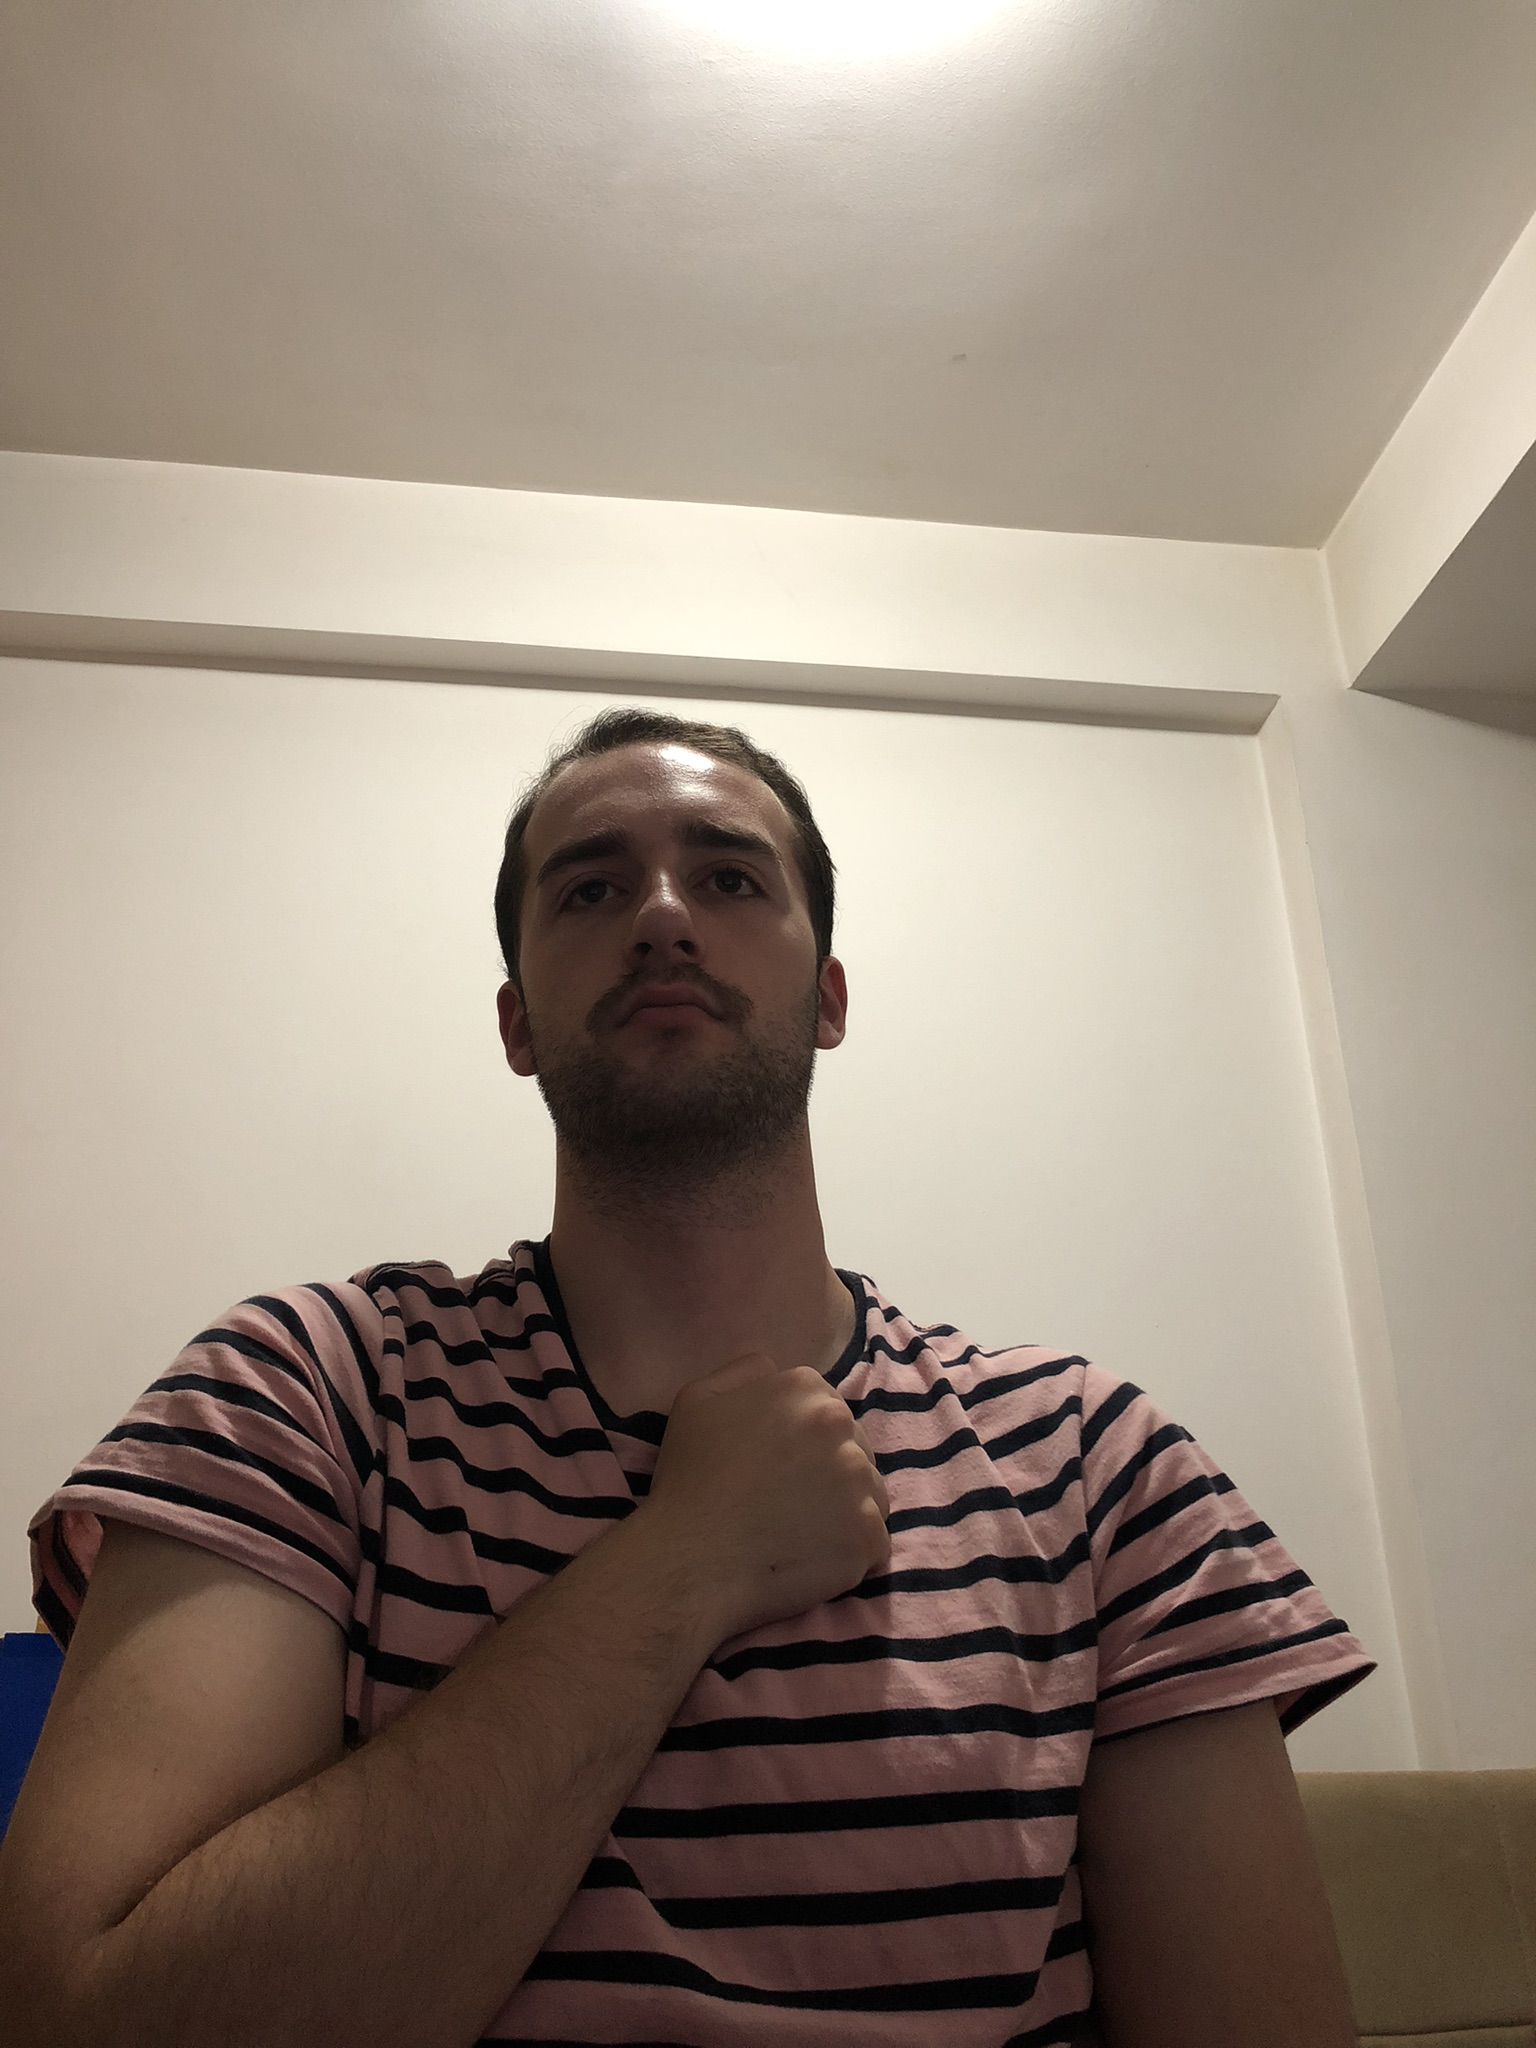Sorry: (2, 1350, 905, 2048)
